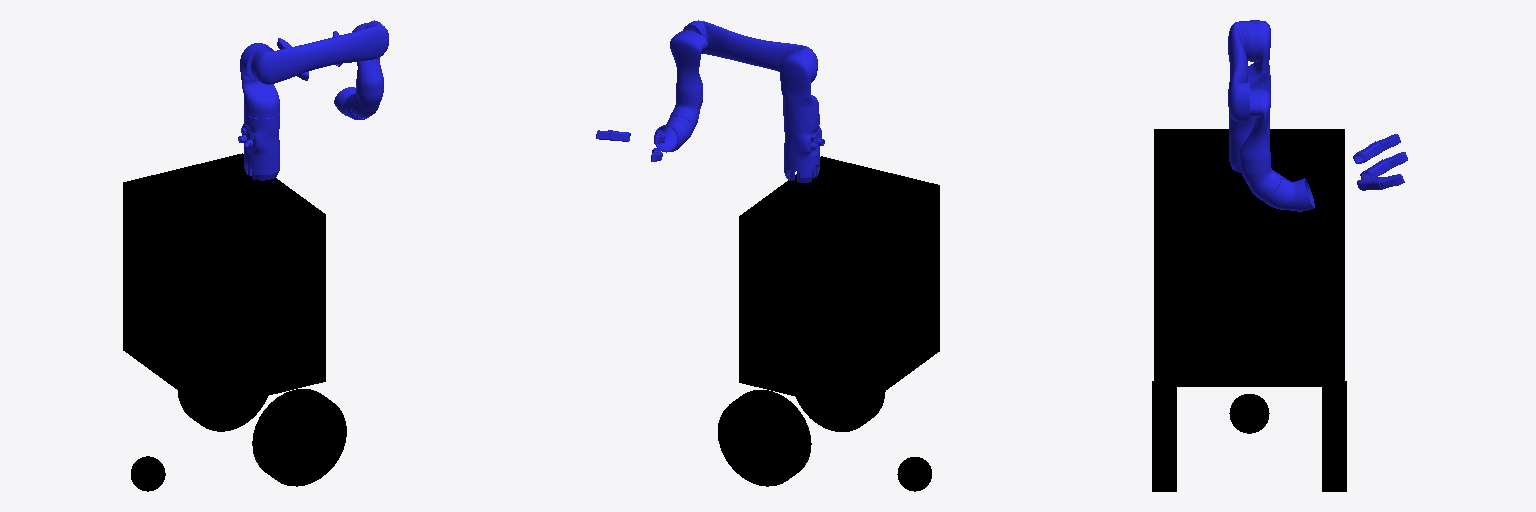
--- Facts derived from the render (not from the file) ---
3 views of the same robot in one strip: view 1: azimuth 30°, elevation 25°; view 2: azimuth 150°, elevation 25°; view 3: azimuth 270°, elevation 25° (orthographic).
Model sudo with 16 links and 15 joints (9 revolute, 2 continuous, 4 fixed), rooted at base_footprint, posed all joints at 0.
Links seen in each view (by area): view 1: bottom_body_box, right_wheel, mico_upper_arm_link, mico_base_link, left_wheel, mico_shoulder_link, chassis, mico_lower_arm_link, mico_lower_arm_roll_link; view 2: bottom_body_box, left_wheel, mico_upper_arm_link, mico_shoulder_link, mico_base_link, mico_lower_arm_link, right_wheel, chassis, mico_wrist_link, mico_lower_arm_roll_link; view 3: bottom_body_box, right_wheel, left_wheel, mico_upper_arm_link, mico_lower_arm_link, mico_shoulder_link, chassis, mico_wrist_link, mico_lower_arm_roll_link, mico_base_link, mico_finger_3_link, mico_finger_1_link (+1 smaller).
Boxes of the visible links, x1=… form: bottom_body_box: x1=123, y1=153, x2=325, y2=410; right_wheel: x1=252, y1=389, x2=346, y2=486; mico_upper_arm_link: x1=251, y1=20, x2=388, y2=84; mico_base_link: x1=238, y1=113, x2=279, y2=180; left_wheel: x1=178, y1=391, x2=267, y2=431; mico_shoulder_link: x1=240, y1=43, x2=279, y2=118; chassis: x1=131, y1=456, x2=165, y2=491; mico_lower_arm_link: x1=352, y1=23, x2=387, y2=90; mico_lower_arm_roll_link: x1=350, y1=85, x2=383, y2=117; bottom_body_box: x1=739, y1=156, x2=939, y2=411; left_wheel: x1=718, y1=390, x2=811, y2=486; mico_upper_arm_link: x1=683, y1=20, x2=817, y2=71; mico_shoulder_link: x1=780, y1=51, x2=818, y2=121; mico_base_link: x1=784, y1=114, x2=824, y2=182; mico_lower_arm_link: x1=670, y1=30, x2=707, y2=96; right_wheel: x1=796, y1=391, x2=885, y2=431; chassis: x1=897, y1=457, x2=931, y2=491; mico_wrist_link: x1=654, y1=115, x2=694, y2=152; mico_lower_arm_roll_link: x1=670, y1=93, x2=702, y2=127; bottom_body_box: x1=1154, y1=129, x2=1344, y2=386; right_wheel: x1=1152, y1=381, x2=1176, y2=491; left_wheel: x1=1322, y1=381, x2=1346, y2=491; mico_upper_arm_link: x1=1228, y1=21, x2=1249, y2=121; mico_lower_arm_link: x1=1239, y1=88, x2=1270, y2=165; mico_shoulder_link: x1=1248, y1=20, x2=1270, y2=95; chassis: x1=1229, y1=394, x2=1269, y2=433; mico_wrist_link: x1=1265, y1=176, x2=1314, y2=211; mico_lower_arm_roll_link: x1=1240, y1=160, x2=1281, y2=201; mico_base_link: x1=1229, y1=113, x2=1269, y2=172; mico_finger_3_link: x1=1353, y1=134, x2=1400, y2=163; mico_finger_1_link: x1=1360, y1=152, x2=1407, y2=178.
Bounding box of the posed robot: 0.7099 × 0.5115 × 1.04 m (x, y, z).
Meshes: 10 distinct files referenced, 9 mesh visuals loaded (7 Collada DAE); not drawn: 3 (reference not matched to a file when rendering).

The robot description file, URDF, robot "sudo":
<?xml version="1.0" ?>
<!-- =================================================================================== -->
<!-- |    This document was autogenerated by xacro from model.urdf.xacro               | -->
<!-- |    EDITING THIS FILE BY HAND IS NOT RECOMMENDED                                 | -->
<!-- =================================================================================== -->

<robot name="sudo" xmlns:controller="http://playerstage.sourceforge.net/gazebo/xmlschema/#controller" xmlns:interface="http://playerstage.sourceforge.net/gazebo/xmlschema/#interface" xmlns:sensor="http://playerstage.sourceforge.net/gazebo/xmlschema/#sensor" xmlns:xacro="http://ros.org/wiki/xacro">
  <link name="base_footprint">
    <origin rpy="0 0 0" xyz="0 0 0.0"/>
  </link>
  
  <!-- Pioneer 2 Chassis-->
  <link name="chassis">
     <inertial>
      <mass value="40"/>
      <!--<origin xyz="-0.025 0 -0.223"/>-->
      <origin xyz="-0.05 0 0"/>
      <inertia ixx="1" ixy="0" ixz="0" iyy="1" iyz="0" izz="1"/>
    </inertial>
    <origin rpy="0 0 0" xyz="0 0 0.16"/>
    <visual name="visual">
      <origin rpy="0 0 0" xyz="0 0 0.04"/>
      <geometry>
        <mesh filename="package://sudo_description/models/pioneer2dx/meshes/chassis.dae"/>
      </geometry>
    </visual>
    <visual name="castor_visual">
      <origin rpy="0 0 0" xyz="-0.200 0 -0.12"/>
      <geometry>
        <sphere radius="0.04"/>
      </geometry>
      <material name="black">
        <color rgba="0 0 0 1.0"/>
      </material>
    </visual>
    <collision>
      <origin rpy="0 0 0" xyz="0 0 0.04"/>
      <geometry>
        <mesh filename="package://sudo_description/models/pioneer2dx/meshes/chassis.dae"/>
      </geometry>
    </collision>
    <collision name="castor_collision">
      <origin rpy="0 0 0" xyz="-0.200 0 -0.12"/>
      <geometry>
        <sphere radius="0.02"/>
      </geometry>
    </collision>
  </link>
  
  <joint name="base_footprint_to_chassis" type="fixed">
    <origin rpy="0 0 0" xyz="0 0 0.16"/>
    <child link="chassis"/>
    <parent link="base_footprint"/>
  </joint>
  <!-- Bottom cube of Sudo-->
  <link name="bottom_body_box">
    <visual name="visual">
    <origin xyz="0 0 0" rpy="0 0 0"/>
      <geometry>
        <box size="0.315 0.38 0.42"/>
      </geometry>
      <material name="black">
        <color rgba="0 0 0 1.0"/>
      </material>
    </visual>
    <collision>
    <origin xyz="0 0 0" rpy="0 0 0"/>
      <geometry>
        <box size="0.315 0.38 0.42"/>
      </geometry>
    </collision>
  </link>
 

  <!-- The link for sick laser. The used model is actually hokoyu-->
  <link name="laser_link">
    <origin rpy="0 0 3.14" xyz="-0.2 0 0.3"/>
    <visual name="visual">
    <origin xyz="0 0 0" rpy="0 0 0"/>
      <geometry>
        <mesh filename="package://sudo_description/models/hokuyo/meshes/hokuyo.dae"/>
      </geometry>
    </visual>
  </link>



  <link name="right_wheel">
    <origin rpy="0 0 0" xyz="0 0 0"/>
    <inertial>
      <mass value="0.5"/>
      <origin xyz="0 0 0"/>
      <inertia ixx="0.012411765597" ixy="0" ixz="0" iyy="0.015218160428" iyz="0" izz="0.011763977943"/>
    </inertial>
    <visual name="visual">
    <origin xyz="0 0 0" rpy="0 0 0"/>
      <geometry>
        <cylinder length="0.05" radius="0.11"/>
      </geometry>
      <material name="black">
        <color rgba="0 0 0 1.0"/>
      </material>
    </visual>
    <collision>
    <origin xyz="0 0 0" rpy="0 0 0"/>
      <geometry>
        <cylinder length="0.05" radius="0.11"/>
      </geometry>
    </collision>
  </link>

  <gazebo reference="right_wheel">
    <!-- fnh -->
    <material>Gazebo/Black</material>
    <turnGravityOff>false</turnGravityOff>
    <selfCollide>true</selfCollide>
    <mu1>100.0</mu1>
    <mu2>100.0</mu2>
    <kp>1000000.0</kp>
    <kd>1.0</kd>
  </gazebo>    

  <link name="left_wheel">
    <origin rpy="0 0 0" xyz="0 0 0"/>
    <inertial>
      <mass value="0.5"/>
      <origin xyz="0 0 0"/>
      <inertia ixx="0.012411765597" ixy="0" ixz="0" iyy="0.015218160428" iyz="0" izz="0.011763977943"/>
    </inertial>
    <visual name="visual">
    <origin xyz="0 0 0" rpy="0 0 0"/>
      <geometry>
        <cylinder length="0.05" radius="0.11"/>
      </geometry>
      <material name="black">
        <color rgba="0 0 0 1.0"/>
      </material>
    </visual>
    <collision>
        <origin xyz="0 0 0" rpy="0 0 0"/>
      <geometry>
        <cylinder length="0.05" radius="0.11"/>
      </geometry>
    </collision>
  </link>

  <gazebo reference="left_wheel">
    <!-- fnh -->
    <material>Gazebo/Black</material>
    <turnGravityOff>false</turnGravityOff>
    <selfCollide>true</selfCollide>
    <mu1>100.0</mu1>
    <mu2>100.0</mu2>
    <kp>1000000.0</kp>
    <kd>1.0</kd>
  </gazebo>
  

  <joint name="left_wheel_hinge" type="continuous">
    <origin rpy="1.5707 0 0" xyz="0.1 0.17 -0.03"/>
    <child link="left_wheel"/>
    <parent link="chassis"/>
    <axis xyz="0 0 1"/>
    <limit effort="100" velocity="100"/>
    <joint_properties damping="0.0" friction="0.0"/>
  </joint>
  
    <transmission name="left_wheel_transmission">
    <type>transmission_interface/SimpleTransmission</type>
    <actuator name="left_wheel_motor">
      <hardwareInterface>EffortJointInterface</hardwareInterface>
      <mechanicalReduction>50</mechanicalReduction>
    </actuator>
    <joint name="left_wheel_hinge"/>
    <mechanicalReduction>50</mechanicalReduction>
    <motorTorqueConstant>1</motorTorqueConstant>
    <pulsesPerRevolution>10000</pulsesPerRevolution>
  </transmission>
  
  <joint name="right_wheel_hinge" type="continuous">
    <origin rpy="1.5707 0 0" xyz="0.1 -0.17 -0.03"/>
    <child link="right_wheel"/>
    <parent link="chassis"/>
    <axis xyz=" 0 0 1"/>
    <limit effort="100" velocity="100"/>
    <joint_properties damping="0.0" friction="0.0"/>
  </joint>
  <transmission name="right_wheel_transmission">
    <type>transmission_interface/SimpleTransmission</type>
    <actuator name="right_wheel_motor">
      <hardwareInterface>EffortJointInterface</hardwareInterface>
      <mechanicalReduction>50</mechanicalReduction>
    </actuator>
    <joint name="right_wheel_hinge"/>
    <mechanicalReduction>50</mechanicalReduction>
    <motorTorqueConstant>1</motorTorqueConstant>
    <pulsesPerRevolution>10000</pulsesPerRevolution>
  </transmission>
  <!-- Gazebo diff_drive plugin-->
  <gazebo> 
  <plugin filename="libgazebo_ros_diff_drive.so" name="diff_drive">
      <alwaysOn>true</alwaysOn>
      <leftJoint>left_wheel_hinge</leftJoint>
      <rightJoint>right_wheel_hinge</rightJoint>
      <wheelSeparation>0.32</wheelSeparation>
      <wheelDiameter>0.11</wheelDiameter>
      <torque>50</torque>
      <commandTopic>cmd_vel</commandTopic>
      <odometryTopic>odom</odometryTopic>
      <odometryFrame>odom</odometryFrame>
      <robotBaseFrame>base_footprint</robotBaseFrame>
  </plugin>
  </gazebo>

  
  <!-- Connection between chassis and bottom rectangular box-->
  <joint name="chassis_to_bottom" type="fixed">
    <origin rpy=" 0 0 0" xyz="0 0 0.315"/>
    <child link="bottom_body_box"/>
    <parent link="chassis"/>
  </joint>
  <!-- Connection between chassis and laser-->
  <joint name="laser_to_chassis" type="fixed">
    <origin rpy="0 0 3.14" xyz="-0.2 0 0.15 "/>
    <child link="laser_link"/>
    <parent link="chassis"/>
  </joint>

  <!-- Mico -->
  <material name="JacoGrey">
    <color rgba="0.2 0.2 0.9 1.0"/>
  </material>
  
  <!-- Mico Base-->
  <joint name="mico_base_joint" type="fixed">
    <origin rpy="0 0 1.57" xyz="0.1 0 0.31"/>
    <!-- fnh was: <origin xyz="0 0 0" rpy="0 0 0"/> -->
    <parent link="bottom_body_box"/>
    <child link="mico_base_link"/>
  </joint>
  <link name="mico_base_link">
    <inertial>
      <!-- fnh -->
      <origin xyz="0 0 0"/>
      <mass value="1.0"/>
      <inertia ixx="1" ixy="0" ixz="0" iyy="1" iyz="0" izz="1"/>
    </inertial>
    <visual>
      <material name="JacoGrey"/>
      <origin rpy="0 0 1.57079632679" xyz="0 0 0"/>
      <geometry>
        <mesh filename="package://jaco_description/meshes/jaco_base_joint.dae"/>
      </geometry>
    </visual>
    <collision>
      <origin rpy="0 0 1.57079632679" xyz="0 0 0"/>
      <geometry>
        <mesh filename="package://jaco_description/meshes/jaco_base_joint.dae"/>
      </geometry>
    </collision>
  </link>
  
  <gazebo reference="mico_base_link">
    <!-- fnh -->
    <material>Gazebo/Grey</material>
    <turnGravityOff>false</turnGravityOff>
    <selfCollide>true</selfCollide>
    <mu1>100.0</mu1>
    <mu2>100.0</mu2>
    <kp>1000000.0</kp>
    <kd>1.0</kd>
  </gazebo>
  
  <joint name="mico_shoulder_yaw_joint" type="revolute">
    <!--<origin xyz="0 0 ${D1}" rpy="0 0 0"/>-->
    <origin rpy="0 0 -1.57" xyz="0 0 0.2142"/>
    <axis rpy="0 0 0" xyz="0 0 1"/>
    <parent link="mico_base_link"/>
    <child link="mico_shoulder_link"/>
    <limit effort="200" lower="-3.04159265359" upper="3.04159265359" velocity="0.837758016"/>
    <dynamics damping="50.5"/>
  </joint>
  <transmission name="mico_shoulder_yaw_joint_transmission">
    <type>transmission_interface/SimpleTransmission</type>
    <actuator name="mico_shoulder_yaw_joint_motor">
      <hardwareInterface>EffortJointInterface</hardwareInterface>
      <mechanicalReduction>50</mechanicalReduction>
    </actuator>
    <joint name="mico_shoulder_yaw_joint"/>
    <mechanicalReduction>50</mechanicalReduction>
    <motorTorqueConstant>1</motorTorqueConstant>
    <pulsesPerRevolution>10000</pulsesPerRevolution>
  </transmission>
  <link name="mico_shoulder_link">
    <inertial>
      <!-- fnh -->
      <origin xyz="0 0 0"/>
      <mass value="1.0"/>
      <inertia ixx="1" ixy="0" ixz="0" iyy="1" iyz="0" izz="1"/>
    </inertial>
    <visual>
      <material name="JacoGrey"/>
      <origin rpy="1.57079632679 -1.57079632679 0" xyz="0 0 0"/>
      <geometry>
        <mesh filename="package://jaco_description/meshes/jaco_shoulder_yaw_joint.dae"/>
      </geometry>
    </visual>
    <collision>
      <origin rpy="1.57079632679 -1.57079632679 0" xyz="0 0 0"/>
      <geometry>
        <mesh filename="package://jaco_description/meshes/jaco_shoulder_yaw_joint.dae"/>
      </geometry>
    </collision>
  </link>
  <gazebo reference="mico_shoulder_link">
    <!-- fnh -->
    <material>Gazebo/Grey</material>
    <turnGravityOff>false</turnGravityOff>
    <selfCollide>true</selfCollide>
    <mu1>100.0</mu1>
    <mu2>100.0</mu2>
    <kp>1000000.0</kp>
    <kd>1.0</kd>
  </gazebo>
  <joint name="mico_shoulder_pitch_joint" type="revolute">
    <origin rpy="-1.57079632679 0 0" xyz="0 -1e-06 0"/>
    <axis xyz="0 0 1"/>
    <parent link="mico_shoulder_link"/>
    <child link="mico_upper_arm_link"/>
    <limit effort="300" lower="-3.83972424" upper="0.69813168" velocity="0.837758016"/>
    <dynamics damping="50.5"/>
  </joint>
  <transmission name="mico_shoulder_pitch_joint_transmission">
    <type>transmission_interface/SimpleTransmission</type>
    <actuator name="mico_shoulder_pitch_joint_motor">
      <hardwareInterface>EffortJointInterface</hardwareInterface>
      <mechanicalReduction>50</mechanicalReduction>
    </actuator>
    <joint name="mico_shoulder_pitch_joint"/>
    <mechanicalReduction>50</mechanicalReduction>
    <motorTorqueConstant>1</motorTorqueConstant>
    <pulsesPerRevolution>10000</pulsesPerRevolution>
  </transmission>
  <link name="mico_upper_arm_link">
    <inertial>
      <!-- fnh -->
      <origin xyz="0 0 0"/>
      <mass value="1.0"/>
      <inertia ixx="1" ixy="0" ixz="0" iyy="1" iyz="0" izz="1"/>
    </inertial>
    <visual>
      <material name="JacoGrey"/>
      <origin rpy="0 0 -1.57079632679" xyz="0 0 0"/>
      <geometry>
        <mesh filename="package://jaco_description/meshes/jaco_shoulder_pitch_joint.dae" scale="1 0.707317073171 1"/>
      </geometry>
    </visual>
    <collision>
      <origin rpy="0 0 -1.57079632679" xyz="0 0 0"/>
      <geometry>
        <mesh filename="package://jaco_description/meshes/jaco_shoulder_pitch_joint.dae" scale="1 0.707317073171 1"/>
      </geometry>
    </collision>
  </link>
  <gazebo reference="mico_upper_arm_link">
    <!-- fnh -->
    <material>Gazebo/Grey</material>
    <turnGravityOff>false</turnGravityOff>
    <selfCollide>true</selfCollide>
    <mu1>100.0</mu1>
    <mu2>100.0</mu2>
    <kp>1000000.0</kp>
    <kd>1.0</kd>
  </gazebo>
  <joint name="mico_elbow_pitch_joint" type="revolute">
    <origin rpy="0 0 0" xyz="0.29 0 0.012001"/>
    <axis xyz="0 0 1"/>
    <parent link="mico_upper_arm_link"/>
    <child link="mico_lower_arm_link"/>
    <limit effort="200" lower="-4.363323" upper="1.22173044" velocity="0.837758016"/>
    <dynamics damping="50.5"/>
  </joint>
  <transmission name="mico_elbow_pitch_joint_transmission">
    <type>transmission_interface/SimpleTransmission</type>
    <actuator name="mico_elbow_pitch_joint_motor">
      <hardwareInterface>EffortJointInterface</hardwareInterface>
      <mechanicalReduction>50</mechanicalReduction>
    </actuator>
    <joint name="mico_elbow_pitch_joint"/>
    <mechanicalReduction>50</mechanicalReduction>
    <motorTorqueConstant>1</motorTorqueConstant>
    <pulsesPerRevolution>10000</pulsesPerRevolution>
  </transmission>
  <link name="mico_lower_arm_link">
    <inertial>
      <!-- fnh -->
      <origin xyz="0 0 0"/>
      <mass value="0.8"/>
      <inertia ixx="1" ixy="0" ixz="0" iyy="1" iyz="0" izz="1"/>
    </inertial>
    <visual>
      <material name="JacoGrey"/>
      <origin rpy="3.14159265359 0 3.14159265359" xyz="0 0 -0.012"/>
      <geometry>
        <mesh filename="package://jaco_description/meshes/jaco_elbow_pitch_joint.dae" scale="1 0.601463414634 1"/>
      </geometry>
    </visual>
    <collision>
      <origin rpy="3.14159265359 0 3.14159265359" xyz="0 0 -0.012"/>
      <geometry>
        <mesh filename="package://jaco_description/meshes/jaco_elbow_pitch_joint.dae" scale="1 0.601463414634 1"/>
      </geometry>
    </collision>
  </link>
  <gazebo reference="mico_lower_arm_link">
    <!-- fnh -->
    <material>Gazebo/Grey</material>
    <turnGravityOff>false</turnGravityOff>
    <selfCollide>true</selfCollide>
    <mu1>100.0</mu1>
    <mu2>100.0</mu2>
    <kp>1000000.0</kp>
    <kd>1.0</kd>
  </gazebo>
  <joint name="mico_elbow_roll_joint" type="revolute">
    <origin rpy="-1.57079632679 0 0" xyz="0 0.165571 0 "/>
    <axis xyz="0 0 1"/>
    <parent link="mico_lower_arm_link"/>
    <child link="mico_lower_arm_roll_link"/>
    <limit effort="40" lower="-3.04159265359" upper="3.04159265359" velocity="1.04719752"/>
    <dynamics damping="50.5"/>
  </joint>
  <transmission name="mico_elbow_roll_joint_transmission">
    <type>transmission_interface/SimpleTransmission</type>
    <actuator name="mico_elbow_roll_joint_motor">
      <hardwareInterface>EffortJointInterface</hardwareInterface>
      <mechanicalReduction>50</mechanicalReduction>
    </actuator>
    <joint name="mico_elbow_roll_joint"/>
    <mechanicalReduction>50</mechanicalReduction>
    <motorTorqueConstant>1</motorTorqueConstant>
    <pulsesPerRevolution>10000</pulsesPerRevolution>
  </transmission>
  <link name="mico_lower_arm_roll_link">
    <inertial>
      <!-- fnh -->
      <origin xyz="0 0 0"/>
      <mass value="0.5"/>
      <inertia ixx="1" ixy="0" ixz="0" iyy="1" iyz="0" izz="1"/>
    </inertial>
    <visual>
      <material name="JacoGrey"/>
      <origin rpy="3.14159265359 0 1.57079632679" xyz="0 0 -0.04227"/>
      <geometry>
        <mesh filename="package://jaco_description/meshes/jaco_elbow_roll_joint.dae"/>
      </geometry>
    </visual>
    <collision>
      <origin rpy="3.14159265359 0 1.57079632679" xyz="0 0 -0.04227"/>
      <geometry>
        <mesh filename="package://jaco_description/meshes/jaco_elbow_roll_joint.dae"/>
      </geometry>
    </collision>
  </link>
  <gazebo reference="mico_lower_arm_roll_link">
    <!-- fnh -->
    <material>Gazebo/Grey</material>
    <turnGravityOff>false</turnGravityOff>
    <selfCollide>true</selfCollide>
    <mu1>100.0</mu1>
    <mu2>100.0</mu2>
    <kp>1000000.0</kp>
    <kd>1.0</kd>
  </gazebo>
  <joint name="mico_wrist_roll_joint" type="revolute">
    <origin rpy="0.959931088597 0 0" xyz="0 -0.0692622919853 0.0484979789618"/>
    <axis xyz="0 0 1"/>
    <parent link="mico_lower_arm_roll_link"/>
    <child link="mico_wrist_link"/>
    <limit effort="40" lower="-3.04159265359" upper="3.04159265359" velocity="1.04719752"/>
    <dynamics damping="50.5"/>
  </joint>
  <transmission name="mico_wrist_roll_joint_transmission">
    <type>transmission_interface/SimpleTransmission</type>
    <actuator name="mico_wrist_roll_joint_motor">
      <hardwareInterface>EffortJointInterface</hardwareInterface>
      <mechanicalReduction>50</mechanicalReduction>
    </actuator>
    <joint name="mico_wrist_roll_joint"/>
    <mechanicalReduction>50</mechanicalReduction>
    <motorTorqueConstant>1</motorTorqueConstant>
    <pulsesPerRevolution>10000</pulsesPerRevolution>
  </transmission>
  <link name="mico_wrist_link">
    <inertial>
      <!-- fnh -->
      <origin xyz="0 0 0"/>
      <mass value="0.5"/>
      <inertia ixx="1" ixy="0" ixz="0" iyy="1" iyz="0" izz="1"/>
    </inertial>
    <visual>
      <material name="JacoGrey"/>
      <origin rpy="0 3.14159265359 -1.57079632679" xyz="0 0 -0.0422768230075"/>
      <geometry>
        <mesh filename="package://jaco_description/meshes/jaco_wrist_roll_joint.dae"/>
      </geometry>
    </visual>
    <collision>
      <origin rpy="0 3.14159265359 -1.57079632679" xyz="0 0 -0.0422768230075"/>
      <geometry>
        <mesh filename="package://jaco_description/meshes/jaco_wrist_roll_joint.dae"/>
      </geometry>
    </collision>
  </link>
  <gazebo reference="mico_wrist_link">
    <!-- fnh -->
    <material>Gazebo/Grey</material>
    <turnGravityOff>false</turnGravityOff>
    <selfCollide>true</selfCollide>
    <mu1>100.0</mu1>
    <mu2>100.0</mu2>
    <kp>1000000.0</kp>
    <kd>1.0</kd>
  </gazebo>
  <joint name="mico_hand_roll_joint" type="revolute">
    <origin rpy="0.959931088597 0 0" xyz="0 -0.186174274186 0.130360630206"/>
    <axis xyz="0 0 1"/>
    <parent link="mico_wrist_link"/>
    <child link="mico_hand_link"/>
    <limit effort="40" lower="-1.7" upper="4.5" velocity="1.04719752"/>
    <dynamics damping="50.5"/>
  </joint>
  <transmission name="mico_hand_roll_joint_transmission">
    <type>transmission_interface/SimpleTransmission</type>
    <actuator name="mico_hand_roll_joint_motor">
      <hardwareInterface>EffortJointInterface</hardwareInterface>
      <mechanicalReduction>50</mechanicalReduction>
    </actuator>
    <joint name="mico_hand_roll_joint"/>
    <mechanicalReduction>50</mechanicalReduction>
    <motorTorqueConstant>1</motorTorqueConstant>
    <pulsesPerRevolution>10000</pulsesPerRevolution>
  </transmission>
  <link name="mico_hand_link">
    <inertial>
      <!-- fnh -->
      <origin xyz="0 0 0"/>
      <mass value="0.6"/>
      <inertia ixx="1" ixy="0" ixz="0" iyy="1" iyz="0" izz="1"/>
    </inertial>
    <visual>
      <material name="JacoGrey"/>
      <origin rpy="0 0 -3.14159265359" xyz="0 0 -0.185"/>
      <geometry>
        <mesh filename="package://jaco_description/meshes/jaco_hand_roll_joint.dae"/>
      </geometry>
    </visual>
    <collision>
      <origin rpy="0 0 -3.14159265359" xyz="0 0 -0.185"/>
      <geometry>
        <!--<mesh filename="package://jaco_description/meshes/jaco_hand_roll_joint.stl" scale="0.9 0.9 0.7" />  fnh -->
        <mesh filename="package://jaco_description/meshes/jaco_hand_roll_joint.dae"/>
      </geometry>
    </collision>
  </link>
  <gazebo reference="mico_hand_link">
    <!-- fnh -->
    <material>Gazebo/Grey</material>
    <turnGravityOff>false</turnGravityOff>
    <selfCollide>true</selfCollide>
    <mu1>100.0</mu1>
    <mu2>100.0</mu2>
    <kp>1000000.0</kp>
    <kd>1.0</kd>
  </gazebo>
  <joint name="mico_finger_1_joint" type="revolute">
    <!-- <origin xyz="-0.036 0.021 ${-0.07}" rpy="0 ${-M_PI/7} 0"/> -->
    <origin rpy="0 -0.448798950513 0" xyz="-0.036 0.021 -0.07"/>
    <axis xyz="0 1 0"/>
    <parent link="mico_hand_link"/>
    <child link="mico_finger_1_link"/>
    <limit effort="10" lower="-0.1" upper="1.04719752" velocity="1.0"/>
    <dynamics damping="50.5"/>
  </joint>
  <transmission name="mico_finger_1_joint_transmission">
    <type>transmission_interfacmico_arm_v0e/SimpleTransmission</type>
    <actuator name="mico_finger_1_joint_motor">
      <hardwareInterface>EffortJointInterface</hardwareInterface>
      <mechanicalReduction>50</mechanicalReduction>
    </actuator>
    <joint name="mico_finger_1_joint"/>
    <mechanicalReduction>50</mechanicalReduction>
    <motorTorqueConstant>1</motorTorqueConstant>
    <pulsesPerRevolution>10000</pulsesPerRevolution>
  </transmission>
  <link name="mico_finger_1_link">
    <inertial>
      <!-- fnh -->
      <origin xyz="0 0 0"/>
      <mass value="0.1"/>
      <inertia ixx="1" ixy="0" ixz="0" iyy="1" iyz="0" izz="1"/>
    </inertial>
    <visual>
      <material name="JacoGrey"/>
      <origin rpy="0 0 0" xyz="0 0 0"/>
      <geometry>
        <mesh filename="package://jaco_description/meshes/finger_new.dae"/>
      </geometry>
    </visual>
    <collision>
      <origin rpy="0 0 0" xyz="0 0 0"/>
      <geometry>
        <mesh filename="package://jaco_description/meshes/finger_new.dae"/>
      </geometry>
    </collision>
  </link>
  <gazebo reference="mico_finger_1_link">
    <!-- fnh -->
    <material>Gazebo/Grey</material>
    <turnGravityOff>false</turnGravityOff>
    <selfCollide>true</selfCollide>
    <mu1>100.0</mu1>
    <mu2>100.0</mu2>
    <kp>1000000.0</kp>
    <kd>1.0</kd>
  </gazebo>
  <joint name="mico_finger_2_joint" type="revolute">
    <origin rpy="0 -0.448798950513 -3.14159265359" xyz="0.036 -0 -0.07"/>
    <axis xyz="0 1 0"/>
    <parent link="mico_hand_link"/>
    <child link="mico_finger_2_link"/>
    <limit effort="10" lower="-0.1" upper="1.04719752" velocity="1.0"/>
    <dynamics damping="50.5"/>
  </joint>
  <transmission name="mico_finger_2_joint_transmission">
    <type>transmission_interface/SimpleTransmission</type>
    <actuator name="mico_finger_2_joint_motor">
      <hardwareInterface>EffortJointInterface</hardwareInterface>
      <mechanicalReduction>50</mechanicalReduction>
    </actuator>
    <joint name="mico_finger_2_joint"/>
    <mechanicalReduction>50</mechanicalReduction>
    <motorTorqueConstant>1</motorTorqueConstant>
    <pulsesPerRevolution>10000</pulsesPerRevolution>
  </transmission>
  <link name="mico_finger_2_link">
    <inertial>
      <!-- fnh -->
      <origin xyz="0 0 0"/>
      <mass value="0.1"/>
      <inertia ixx="1" ixy="0" ixz="0" iyy="1" iyz="0" izz="1"/>
    </inertial>
    <visual>
      <material name="JacoGrey"/>
      <origin rpy="0 0 0" xyz="0 0 0"/>
      <geometry>
        <mesh filename="package://jaco_description/meshes/finger_new.dae"/>
      </geometry>
    </visual>
    <collision>
      <origin rpy="0 0 0" xyz="0 0 0"/>
      <geometry>
        <mesh filename="package://jaco_description/meshes/finger_new.dae"/>
      </geometry>
    </collision>
  </link>
  <gazebo reference="mico_finger_2_link">
    <!-- fnh -->
    <material>Gazebo/Grey</material>
    <turnGravityOff>false</turnGravityOff>
    <selfCollide>true</selfCollide>
    <mu1>100.0</mu1>
    <mu2>100.0</mu2>
    <kp>1000000.0</kp>
    <kd>1.0</kd>
  </gazebo>
  <joint name="mico_finger_3_joint" type="revolute">
    <origin rpy="0 -0.448798950513 0" xyz="-0.036 -0.021 -0.07"/>
    <axis xyz="0 1 0"/>
    <parent link="mico_hand_link"/>
    <child link="mico_finger_3_link"/>
    <limit effort="10" lower="-0.1" upper="1.04719752" velocity="1.0"/>
    <dynamics damping="50.5"/>
  </joint>
  <transmission name="mico_finger_3_joint_transmission">
    <type>transmission_interface/SimpleTransmission</type>
    <actuator name="mico_finger_3_joint_motor">
      <hardwareInterface>EffortJointInterface</hardwareInterface>
      <mechanicalReduction>50</mechanicalReduction>
    </actuator>
    <joint name="mico_finger_3_joint"/>
    <mechanicalReduction>50</mechanicalReduction>
    <motorTorqueConstant>1</motorTorqueConstant>
    <pulsesPerRevolution>10000</pulsesPerRevolution>
  </transmission>
  <link name="mico_finger_3_link">
    <inertial>
      <!-- fnh -->
      <origin xyz="0 0 0"/>
      <mass value="0.1"/>
      <inertia ixx="1" ixy="0" ixz="0" iyy="1" iyz="0" izz="1"/>
    </inertial>
    <visual>
      <material name="JacoGrey"/>
      <origin rpy="0 0 0" xyz="0 0 0"/>
      <geometry>
        <mesh filename="package://jaco_description/meshes/finger_new.dae"/>
      </geometry>
    </visual>
    <collision>
      <origin rpy="0 0 0" xyz="0 0 0"/>
      <geometry>
        <mesh filename="package://jaco_description/meshes/finger_new.dae"/>
      </geometry>
    </collision>
  </link>
  <gazebo reference="mico_finger_3_link">
    <!-- fnh -->
    <material>Gazebo/Grey</material>
    <turnGravityOff>false</turnGravityOff>
    <selfCollide>true</selfCollide>
    <mu1>100.0</mu1>
    <mu2>100.0</mu2>
    <kp>1000000.0</kp>
    <kd>1.0</kd>
  </gazebo>
  <gazebo>
   <plugin name="gazebo_ros_control" filename="libgazebo_ros_control.so">
     <robotNamespace>sudo</robotNamespace>
   </plugin>
  </gazebo>
  
</robot>
